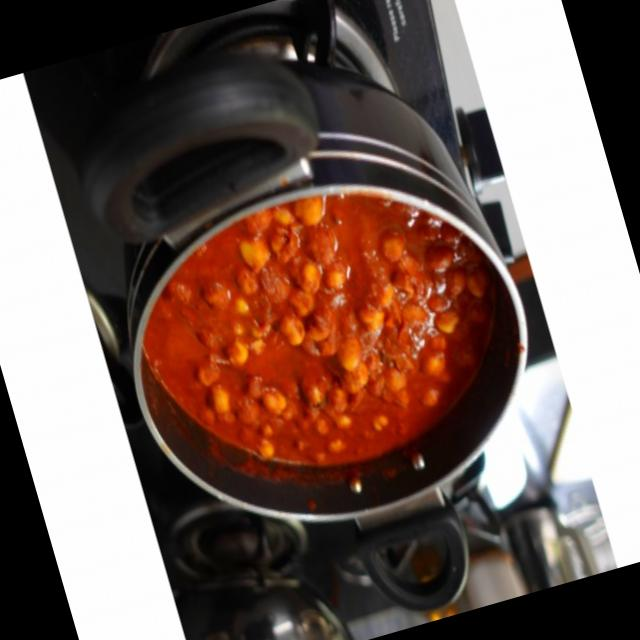Chole: (113, 150, 536, 509)
